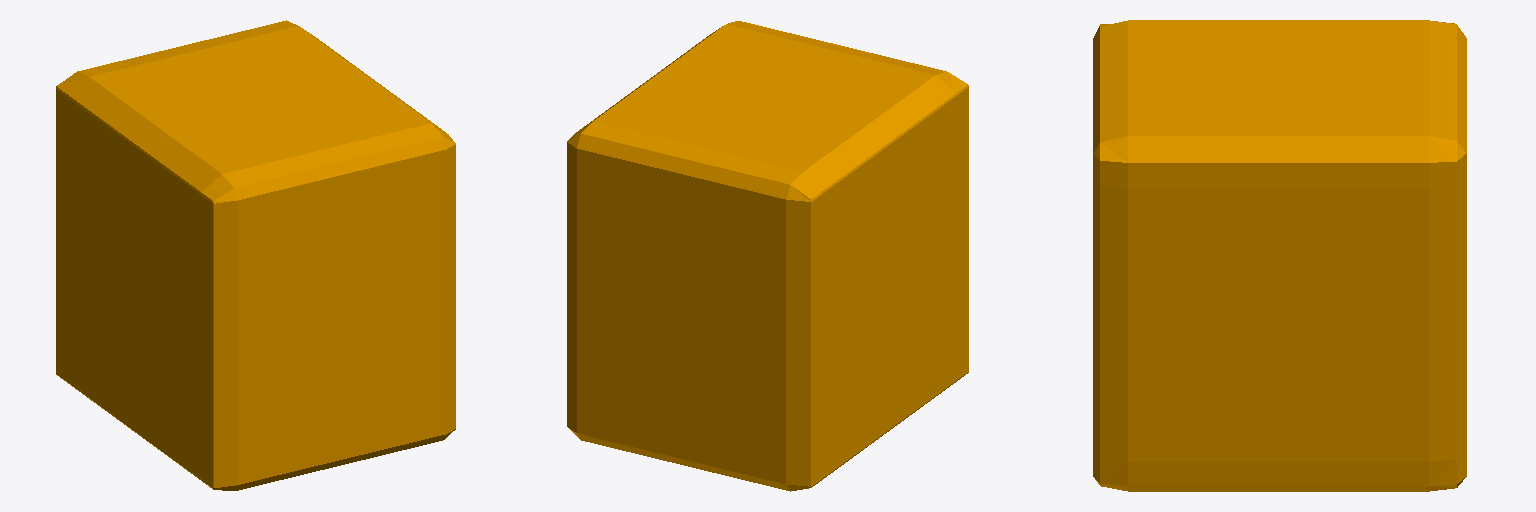
The robot description file, URDF, robot "cylinder_box_144":
<?xml version="1.0" encoding="utf-8"?>  <robot name="cylinder_box_144">   <link name="cylinder_box_144">     <visual>       <geometry>         <mesh filename="../meshes/box/box_144.stl" scale="1 1 1"/>       </geometry>     </visual>     <collision>       <geometry>         <mesh filename="../meshes/box/box_144.stl" scale="1 1 1"/>       </geometry>     </collision>     <inertial>        <origin         xyz="0 0 0"         rpy="0 0 0" />       <mass value="0.28400555580658055"/>       <origin rpy="0 0 0" xyz="0 0 0"/>       <inertia ixx="0.00022631694450391546" ixy="-6.671278249843446e-08" ixz="-2.6256596729636148e-08" iyy="0.00020011477265670263" iyz="3.1804026168585103e-09" izz="0.00018960757037851048"/>     </inertial>   </link>  </robot>

--- What the picture shows (computed from the rendered views, not written in the file) ---
Views: 3 orthographic renders of the robot side by side, from view 1: azimuth 30°, elevation 25°; view 2: azimuth 150°, elevation 25°; view 3: azimuth 270°, elevation 25°.
Model cylinder_box_144 with 1 links and 0 joints (none), rooted at cylinder_box_144, posed every joint at zero.
Links seen in each view (by area): view 1: cylinder_box_144; view 2: cylinder_box_144; view 3: cylinder_box_144.
Link boxes in pixels (left/top/right/bottom): cylinder_box_144: left=56, top=20, right=455, bottom=490; cylinder_box_144: left=567, top=21, right=968, bottom=491; cylinder_box_144: left=1093, top=20, right=1466, bottom=491.
Bounding box of the posed robot: 0.0593 × 0.068 × 0.0715 m (x, y, z).
1 mesh visuals loaded from 1 distinct referenced files (1 binary STL).